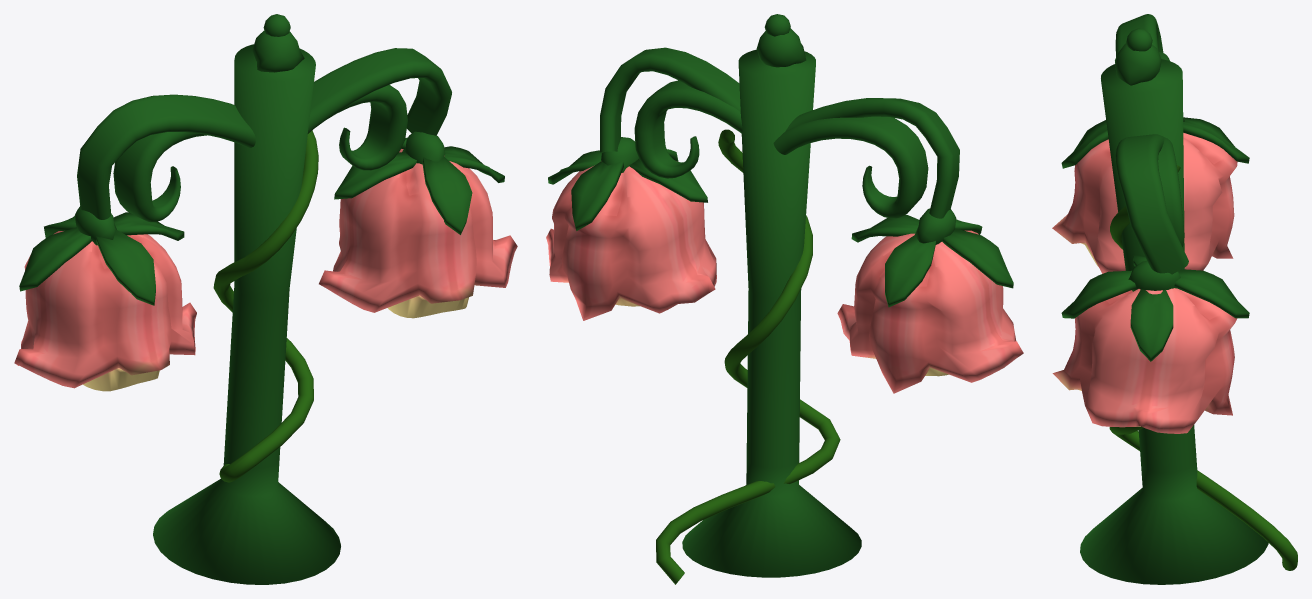
The model's file is lamp.fbx.
3 views of the same model, side by side, from view 1: azimuth 30°, elevation 25°; view 2: azimuth 150°, elevation 25°; view 3: azimuth 270°, elevation 25° (orthographic). The views are drawn at different scales.
Parts seen in each view (by area): view 1: BezierCurve.002, Sphere.001, Sphere, BezierCurve, Plane.002, Plane.007, Plane.004, Plane.008, Plane.001, Icosphere.001, Icosphere, Plane.005; view 2: BezierCurve.002, Sphere.001, Sphere, BezierCurve, Plane.003, Plane.006, Plane.004, Plane.008, Icosphere, Plane.001, Icosphere.001, Plane.005; view 3: BezierCurve.002, Sphere.001, Sphere, BezierCurve, Plane.005, Plane.006, Plane.007, Plane.003, Icosphere.001, Plane.002.
Boxes of the visible parts, bbox=[...] form: BezierCurve.002: bbox=[77, 14, 451, 584]; Sphere.001: bbox=[319, 149, 517, 318]; Sphere: bbox=[14, 231, 196, 391]; BezierCurve: bbox=[213, 130, 318, 482]; Plane.002: bbox=[96, 229, 155, 305]; Plane.007: bbox=[422, 157, 472, 234]; Plane.004: bbox=[19, 227, 91, 291]; Plane.008: bbox=[334, 152, 416, 199]; Plane.001: bbox=[113, 212, 184, 240]; Icosphere.001: bbox=[402, 131, 445, 164]; Icosphere: bbox=[75, 206, 116, 245]; Plane.005: bbox=[444, 146, 504, 182]; BezierCurve.002: bbox=[600, 14, 959, 577]; Sphere.001: bbox=[546, 165, 716, 320]; Sphere: bbox=[837, 230, 1023, 393]; BezierCurve: bbox=[656, 129, 840, 584]; Plane.003: bbox=[885, 234, 935, 307]; Plane.006: bbox=[571, 160, 623, 230]; Plane.004: bbox=[942, 228, 1013, 288]; Plane.008: bbox=[629, 159, 707, 202]; Icosphere: bbox=[915, 208, 956, 244]; Plane.001: bbox=[851, 215, 919, 242]; Icosphere.001: bbox=[601, 137, 638, 172]; Plane.005: bbox=[548, 150, 601, 184]; BezierCurve.002: bbox=[1080, 14, 1268, 584]; Sphere.001: bbox=[1052, 288, 1237, 433]; Sphere: bbox=[1052, 133, 1237, 273]; BezierCurve: bbox=[1109, 165, 1297, 570]; Plane.005: bbox=[1130, 289, 1173, 361]; Plane.006: bbox=[1174, 269, 1249, 318]; Plane.007: bbox=[1061, 270, 1136, 318]; Plane.003: bbox=[1183, 117, 1249, 163]; Icosphere.001: bbox=[1128, 260, 1180, 291]; Plane.002: bbox=[1061, 120, 1108, 168].
Bounding box in the file's own units: 638 × 661 × 279.
